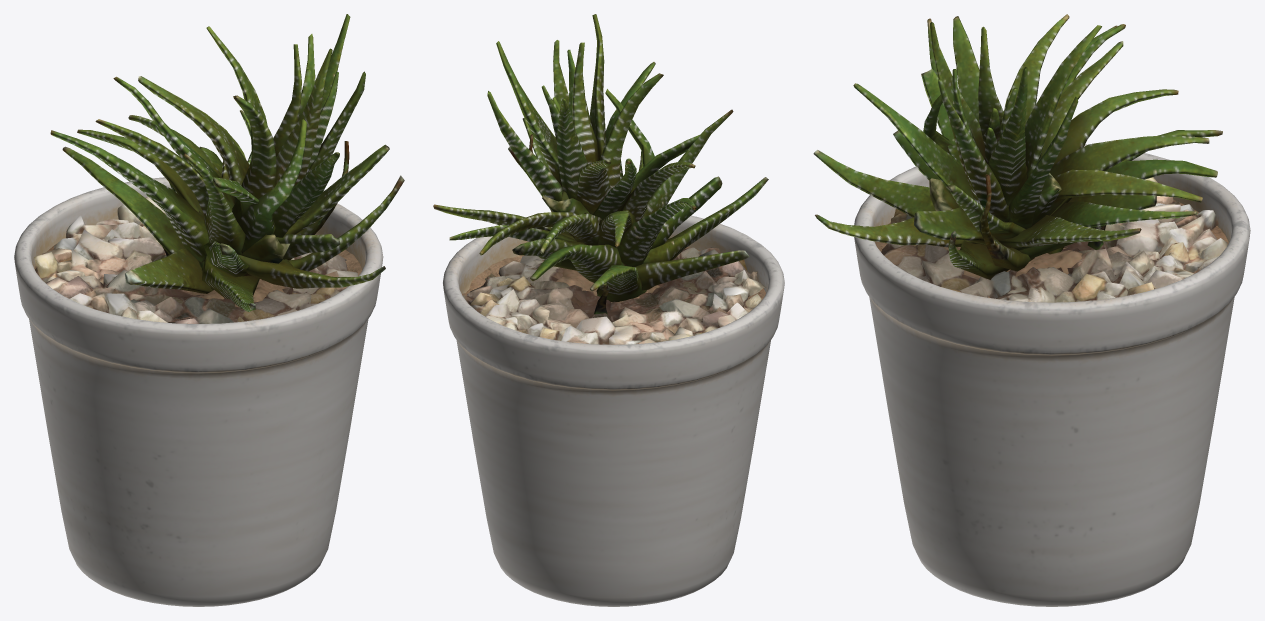
File: potted_plant_04.glb
3 views of the same model, side by side, from view 1: azimuth 30°, elevation 25°; view 2: azimuth 150°, elevation 25°; view 3: azimuth 270°, elevation 25° (orthographic). The views are drawn at different scales.
Visible parts, largest first — view 1: potted_plant_04_pot, potted_plant_04_plant, potted_plant_04_ground, potted_plant_04_dirt; view 2: potted_plant_04_pot, potted_plant_04_plant, potted_plant_04_ground, potted_plant_04_dirt; view 3: potted_plant_04_pot, potted_plant_04_plant, potted_plant_04_ground, potted_plant_04_dirt.
Boxes of the visible parts, x1,y1,x2,y2 form: potted_plant_04_pot: (14,177,383,606); potted_plant_04_plant: (50,14,404,311); potted_plant_04_ground: (34,196,357,323); potted_plant_04_dirt: (34,238,362,307); potted_plant_04_pot: (443,215,784,606); potted_plant_04_plant: (433,14,768,314); potted_plant_04_ground: (463,247,765,344); potted_plant_04_dirt: (462,247,765,306); potted_plant_04_pot: (854,144,1250,606); potted_plant_04_plant: (813,14,1222,279); potted_plant_04_ground: (881,177,1227,302); potted_plant_04_dirt: (875,200,1228,297).
Size of the model in its own units: 0.1679 by 0.2675 by 0.1848.
Materials: 1 (1 with a texture image).
